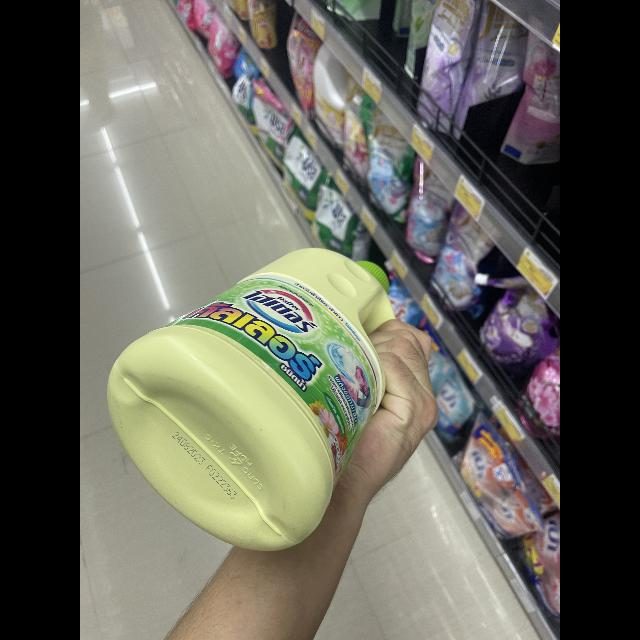chemical_plastic_bottle: (96, 228, 414, 566)
